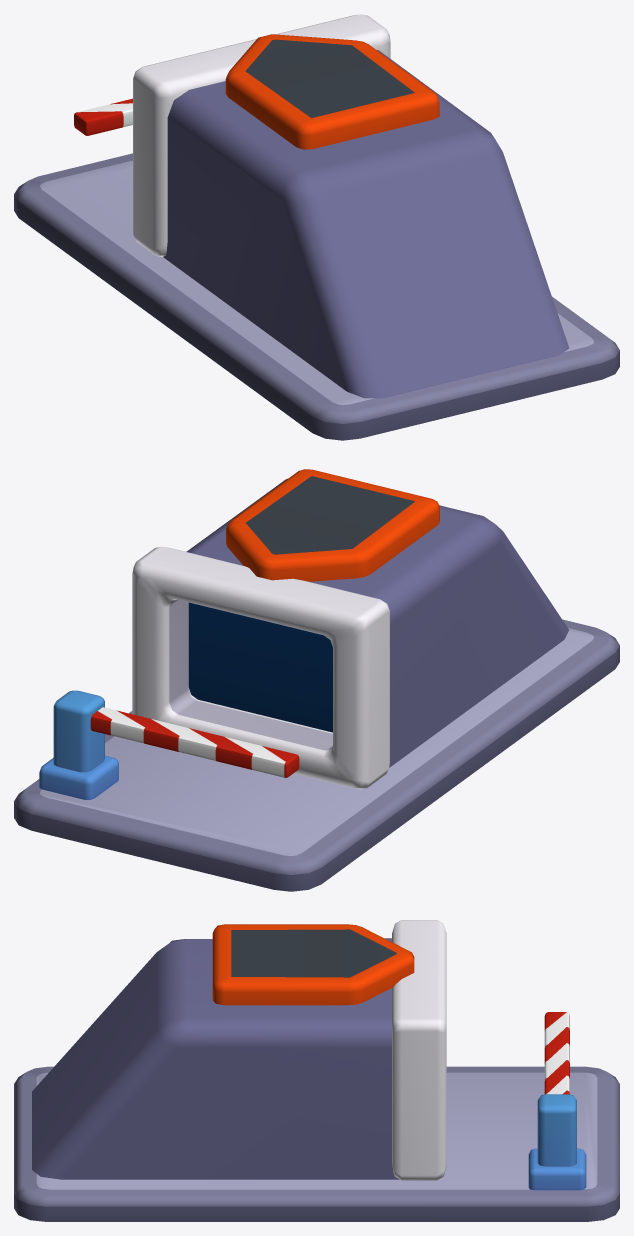
Rendered from parking.fbx.
3 views of the same model, one above another, from view 1: azimuth 30°, elevation 25°; view 2: azimuth 150°, elevation 25°; view 3: azimuth 270°, elevation 25° (orthographic). The views are drawn at different scales.
Parts seen in each view (by area): view 1: pbase, pbase1, barie; view 2: pbase, pbase1, barie; view 3: pbase, pbase1, barie.
Boxes of the visible parts, box(x1,y1,x2,y2) form: pbase: box(14, 14, 619, 440); pbase1: box(225, 34, 439, 149); barie: box(74, 98, 132, 135); pbase: box(14, 478, 619, 891); pbase1: box(226, 469, 439, 581); barie: box(90, 707, 299, 777); pbase: box(14, 920, 619, 1221); pbase1: box(212, 924, 414, 1005); barie: box(544, 1012, 569, 1094).
Bounding box in the file's own units: 16.68 × 11.44 × 31.37.
1 material, 1 textured.
